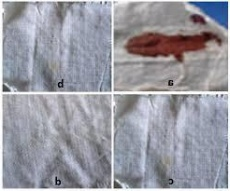blood: (125, 28, 222, 61)
